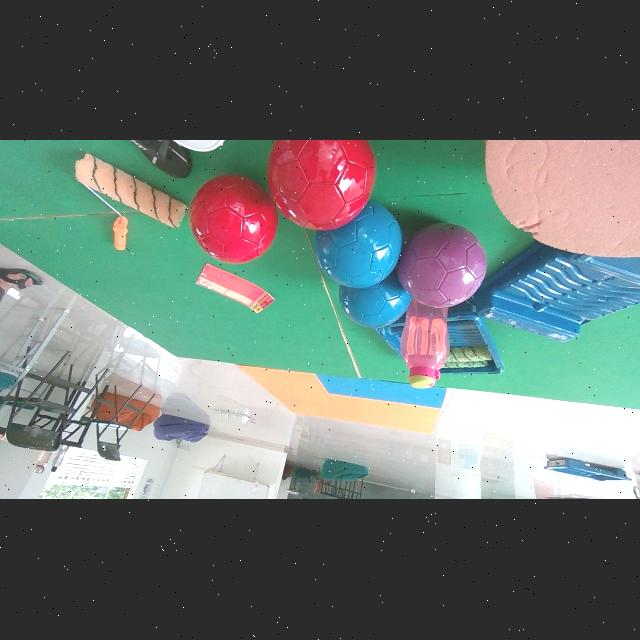B: (315, 202, 401, 289), (339, 274, 411, 329)
P: (398, 223, 487, 309)
R: (268, 140, 375, 231), (189, 175, 278, 265)
